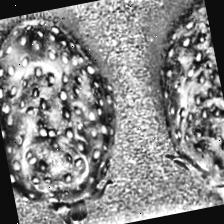Anthracnose Fruit Rot: (0, 45, 125, 214), (143, 0, 224, 196)
